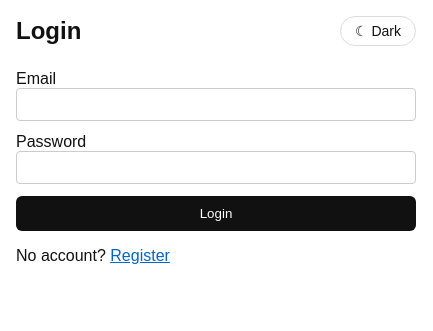
Login page › shows an error message when login fails
Type "user@example.com" into the field labelled "Email" at (216, 104), box top-left (16, 88), bottom-right (416, 121)
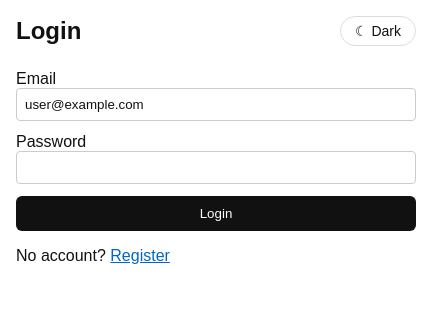
Type "wrongpass" into the password field labelled "Password" at (216, 168), box top-left (16, 151), bottom-right (416, 184)
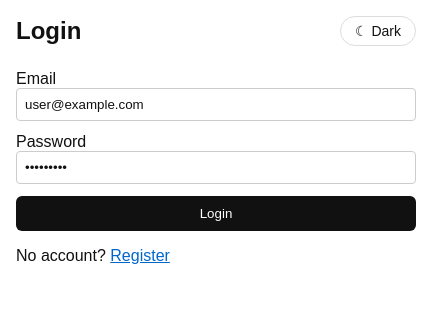
Click the button "Login" at (216, 214), box top-left (16, 196), bottom-right (416, 231)
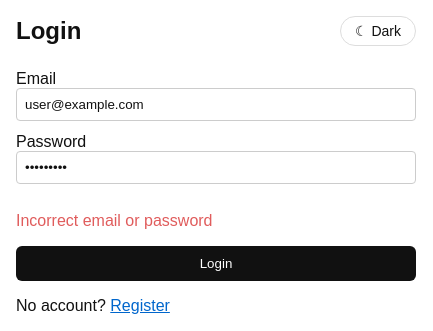
Expected: the text "Incorrect email or password" is shown, top-left (16, 212), bottom-right (212, 229)
